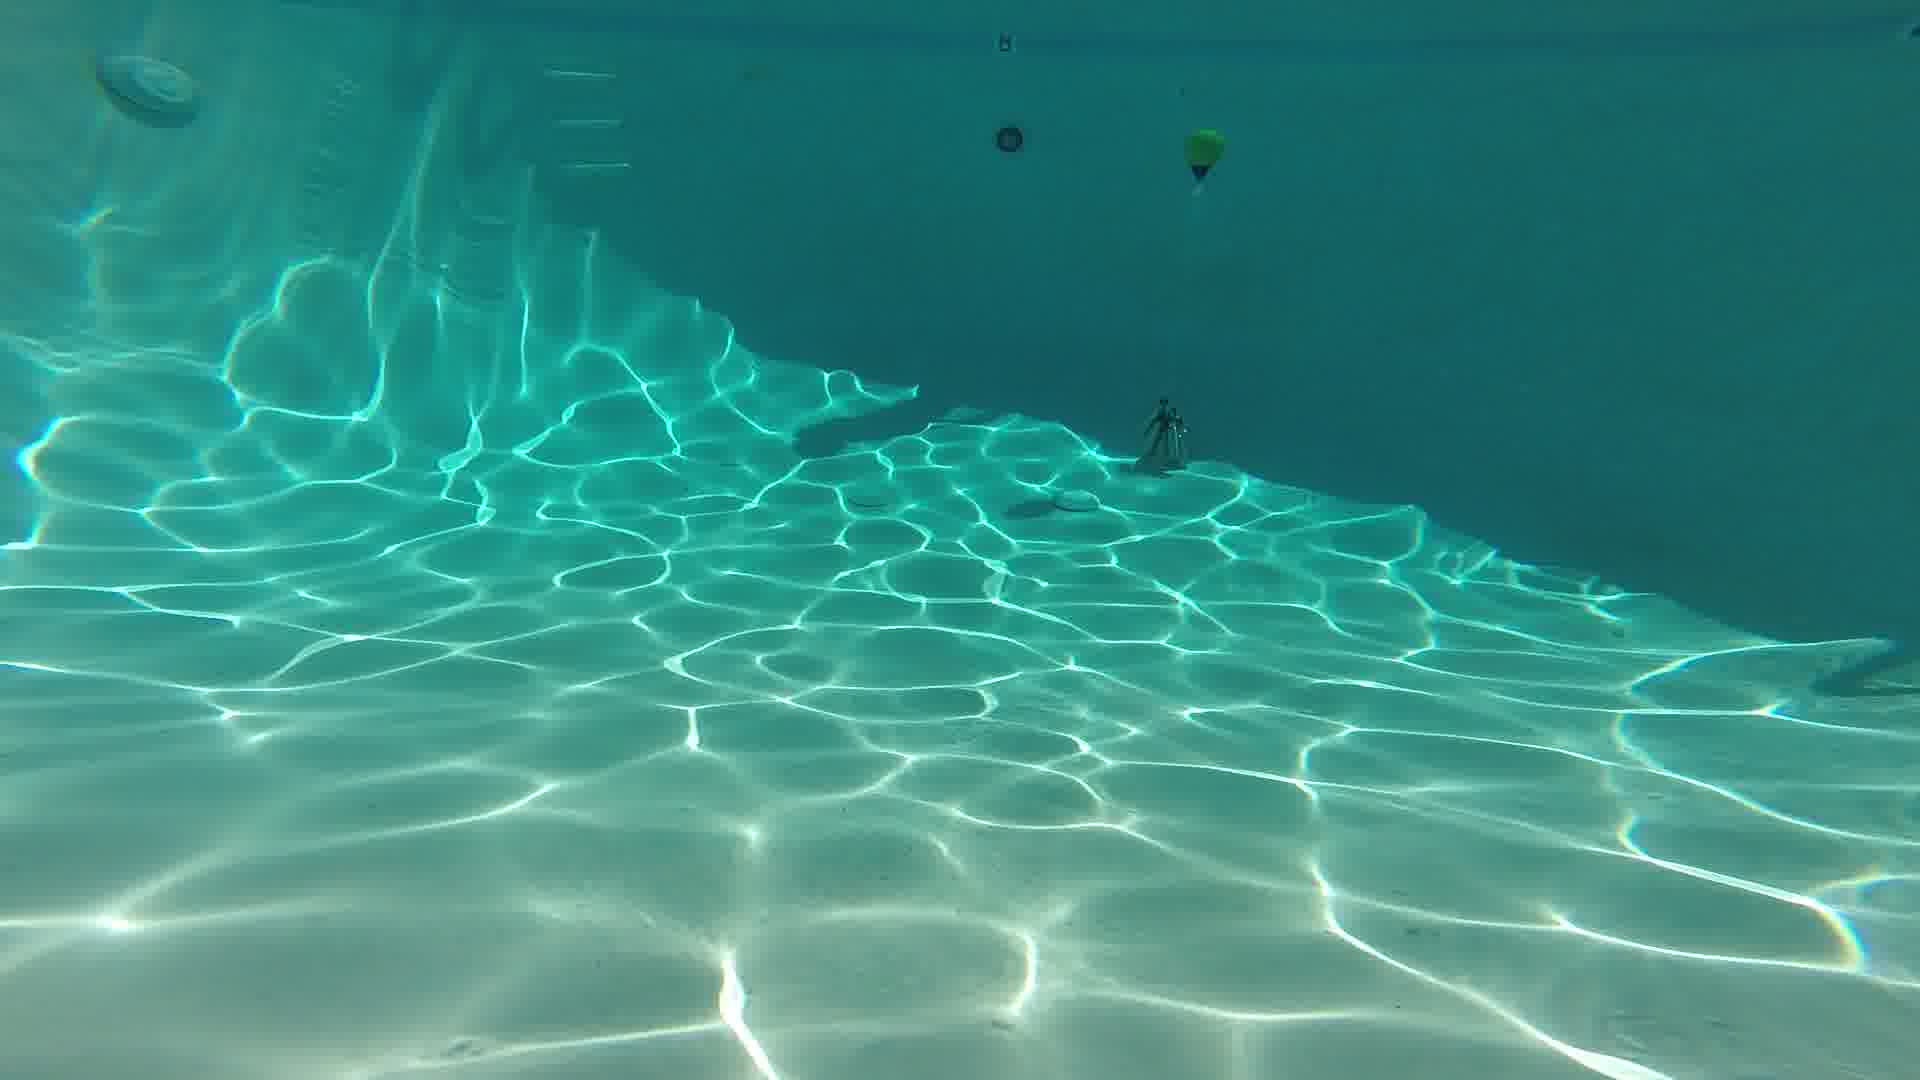yellow_buoy: (1185, 128, 1222, 181)
